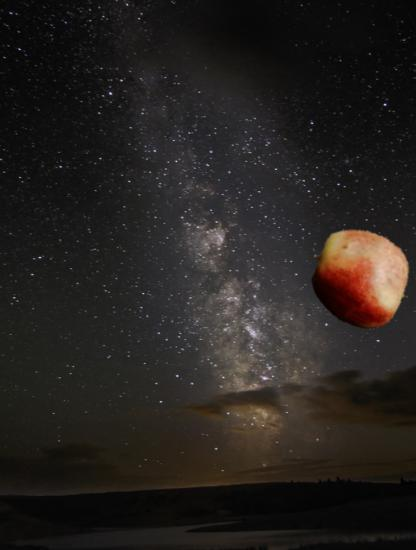Apple: (309, 227, 412, 330)
